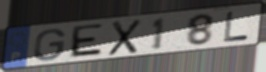1: (151, 16, 166, 52)
8: (185, 13, 217, 47)
E: (67, 22, 105, 59)
G: (32, 27, 68, 62)
L: (222, 10, 250, 43)
X: (107, 17, 144, 57)
